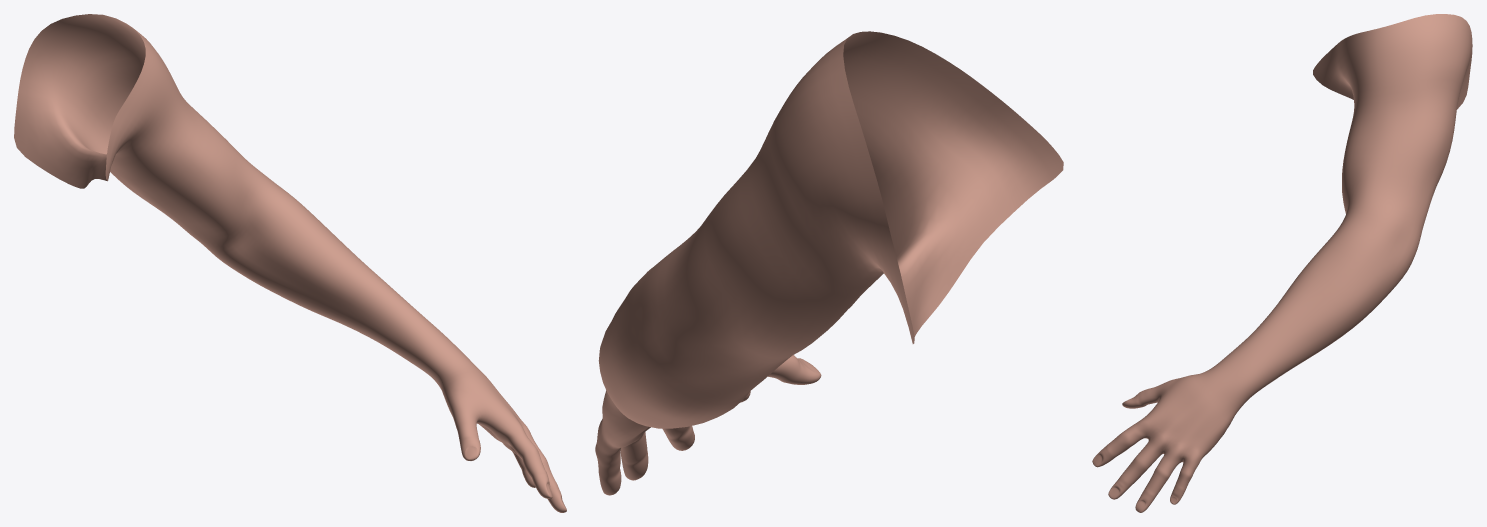
The model's file is BRAZO_RECHAZO.fbx.
The picture shows the model from 3 angles, left to right: view 1: azimuth 30°, elevation 25°; view 2: azimuth 150°, elevation 25°; view 3: azimuth 270°, elevation 25°; orthographic projection. The views are drawn at different scales.
Visible parts, largest first — view 1: BRAZO_RECHAZO; view 2: BRAZO_RECHAZO; view 3: BRAZO_RECHAZO.
Boxes of the visible parts, box(x1,y1,x2,y2) form: BRAZO_RECHAZO: box(14, 14, 566, 512); BRAZO_RECHAZO: box(595, 31, 1063, 495); BRAZO_RECHAZO: box(1092, 14, 1472, 512).
Size of the model in its own units: 44.09 by 51.9 by 47.53.
